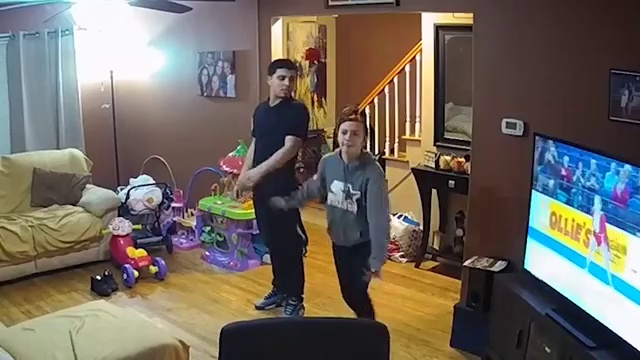face: (338, 121, 362, 152), (271, 67, 296, 95)
